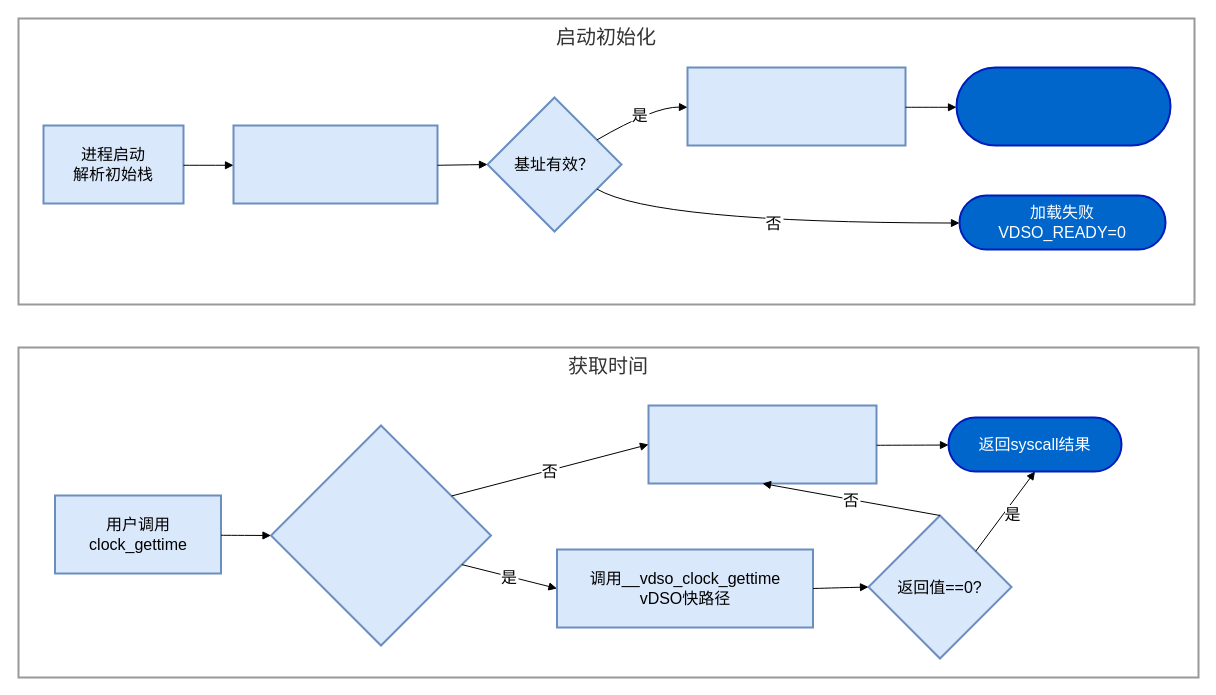
Image size: 1216x695. Some labels were removed from this diagram. Here are the shapes that lost their labels. From the top down, the centre of each, then its label:
At [796,106]: "缓存VDSO_BASE 设置VDSO_READY=1".
At [1063,106]: "调用init_vdso_vtable 绑定符号".
At [335,164]: "从auxv读取 AT_SYSINFO_EHDR".
At [762,444]: "执行sys_clock_gettime 系统调用".
At [381,535]: "VDSO_READY==1 且VDSO_BASE!=0?".
